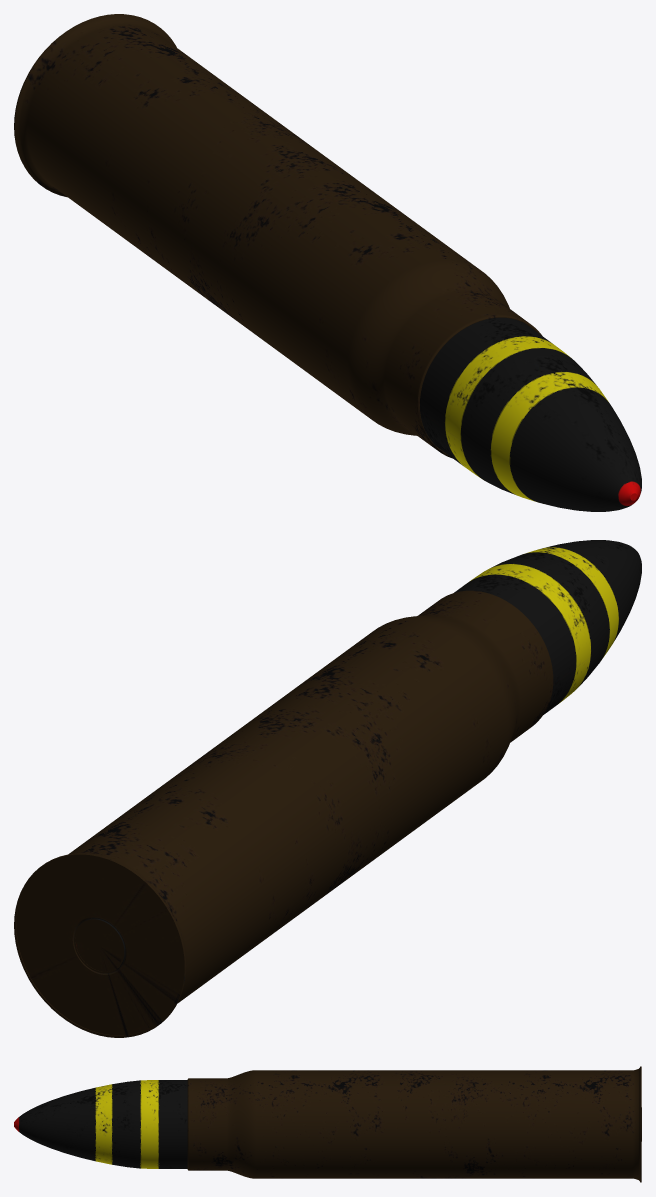
Rendered from TankShell.obj.
The picture shows the model from 3 angles, top to bottom: view 1: azimuth 30°, elevation 25°; view 2: azimuth 150°, elevation 25°; view 3: azimuth 270°, elevation 25°; orthographic projection. The views are drawn at different scales.
Parts seen in each view (by area): view 1: Projectile_Circle.001; view 2: Projectile_Circle.001; view 3: Projectile_Circle.001.
Part boxes in pixels (x1,y1,x2,y2): Projectile_Circle.001: (14, 14, 641, 511); Projectile_Circle.001: (14, 540, 641, 1037); Projectile_Circle.001: (14, 1066, 641, 1182).
Size of the model in its own units: 2.14 by 2.14 by 11.55.
Materials: 1 (1 with a texture image).
